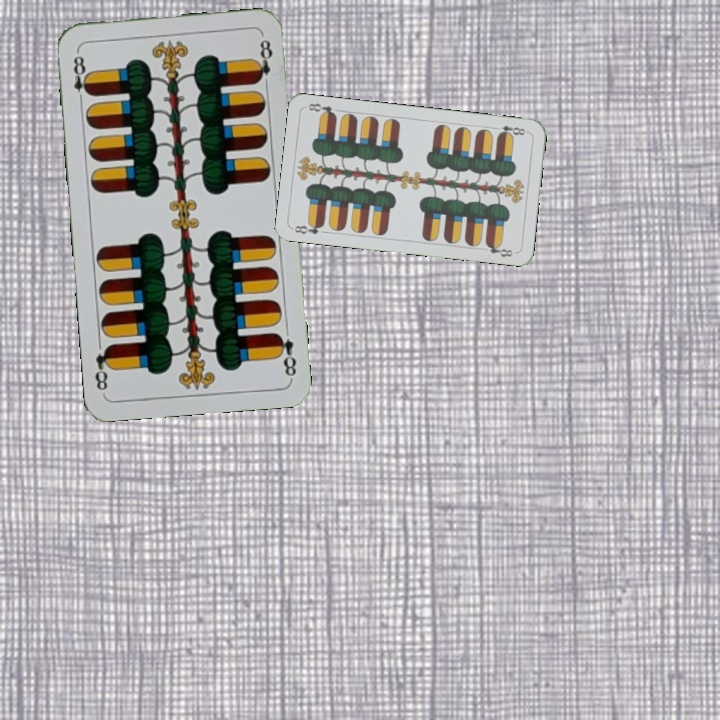E8: (69, 47, 94, 106), (272, 329, 299, 381), (490, 121, 531, 139), (290, 219, 327, 237)
